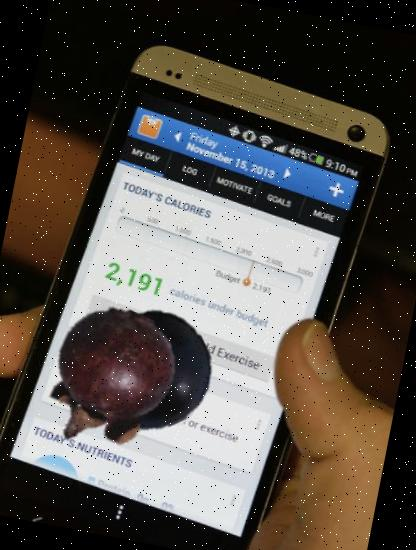Cherry: (140, 368, 203, 431)
Grape: (84, 301, 221, 438)
Mangostan: (24, 294, 194, 466)
